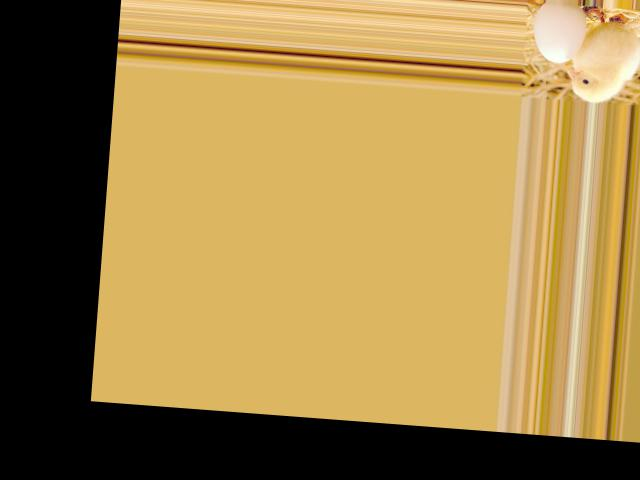egg: (531, 1, 588, 64)
